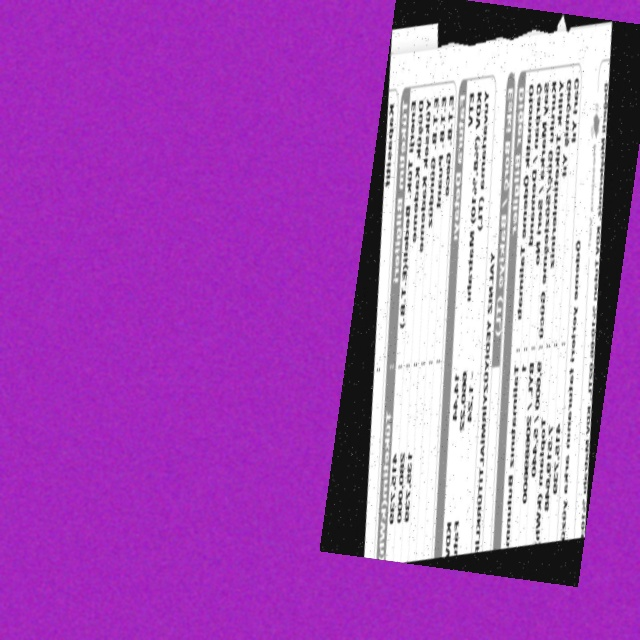electricity-bill: (320, 0, 640, 587)
